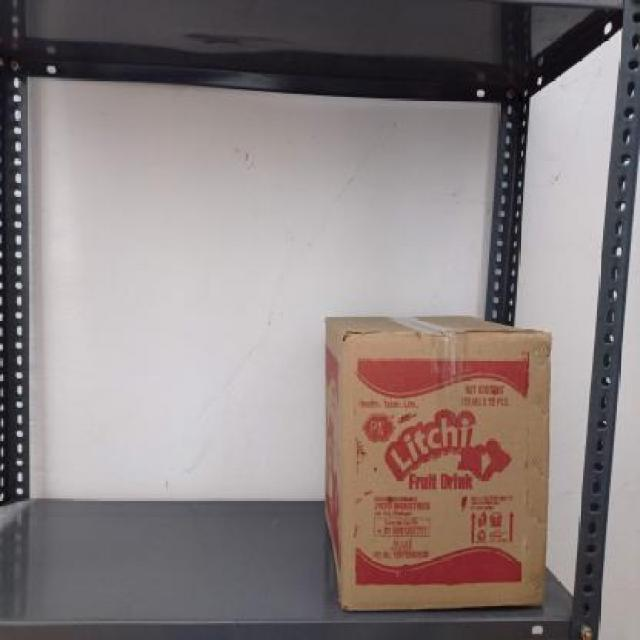box: (341, 332, 547, 611)
